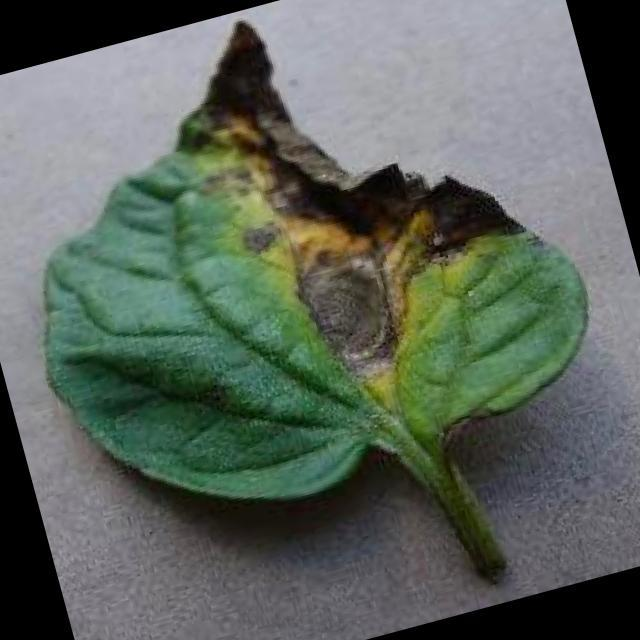Tomato Early blight leaf: (0, 0, 621, 558)
